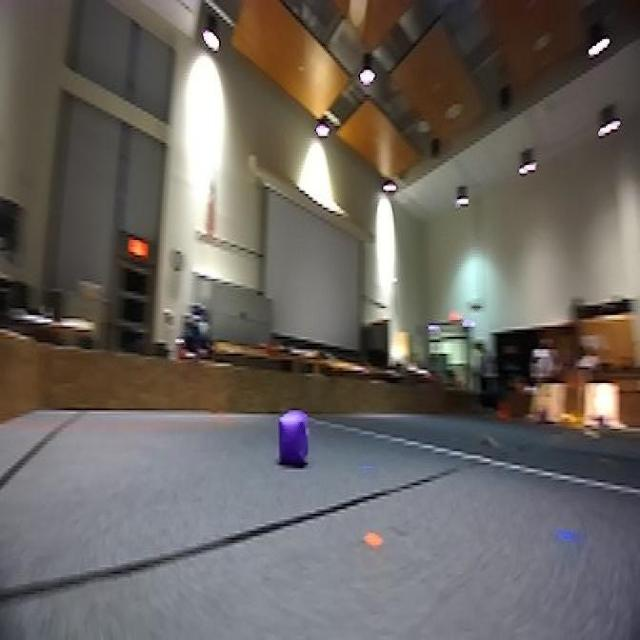frc_cube: (276, 410, 312, 472)
